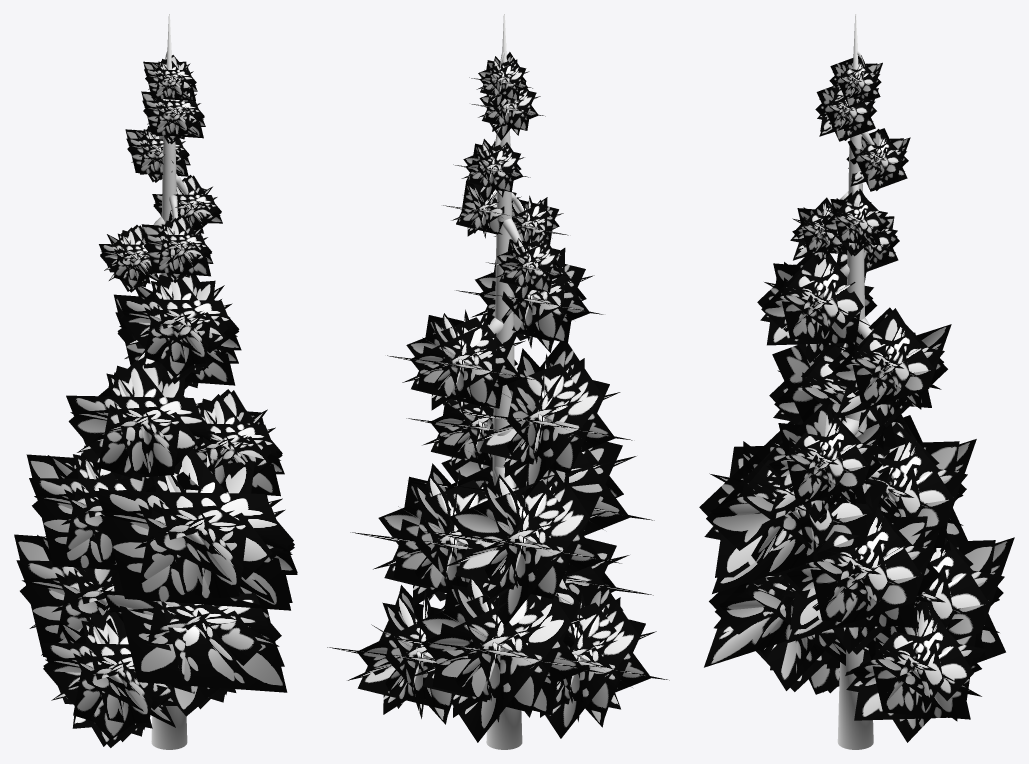
File: Pinetree2.fbx
The picture shows the model from 3 angles, left to right: view 1: azimuth 30°, elevation 25°; view 2: azimuth 150°, elevation 25°; view 3: azimuth 270°, elevation 25°; orthographic projection.
Visible parts, largest first — view 1: PineFoliage, PineTrunk; view 2: PineFoliage, PineTrunk; view 3: PineFoliage, PineTrunk.
Boxes of the visible parts, x1,y1,x2,y2 form: PineFoliage: (14, 55, 297, 747); PineTrunk: (140, 14, 222, 749); PineFoliage: (327, 52, 669, 742); PineTrunk: (464, 14, 545, 749); PineFoliage: (699, 55, 1014, 742); PineTrunk: (815, 14, 896, 749).
Size of the model in its own units: 252 by 670 by 263.
